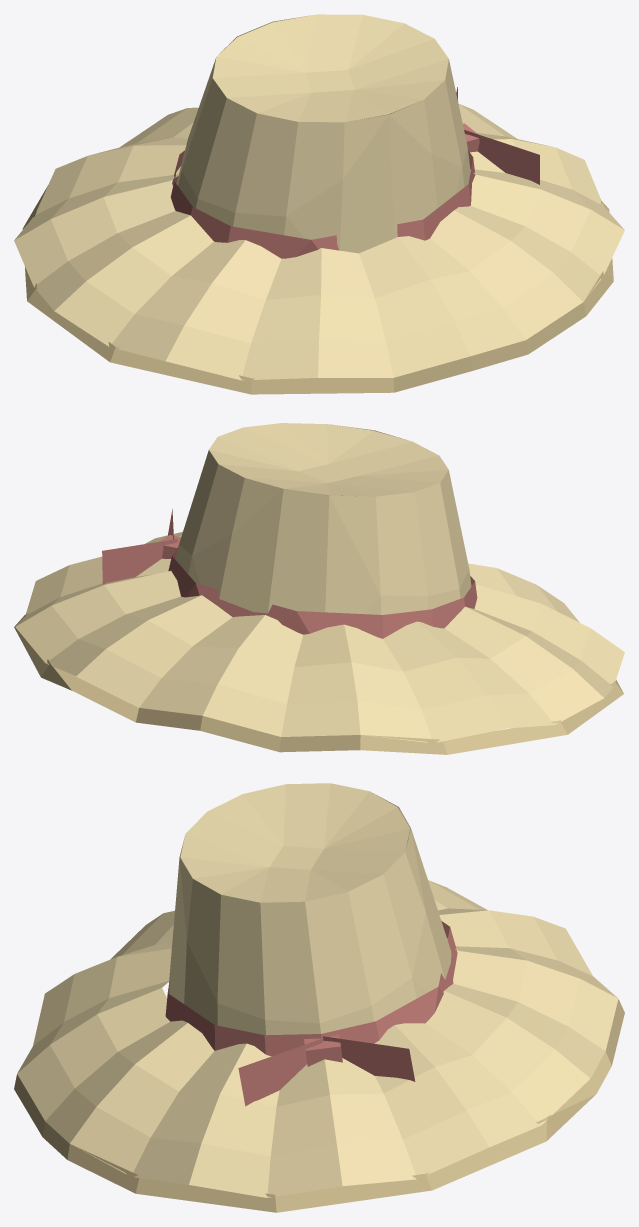
The model's file is 19-NPCs_sombrero_paja.glb.
3 views of the same model, one above another, from view 1: azimuth 30°, elevation 25°; view 2: azimuth 150°, elevation 25°; view 3: azimuth 270°, elevation 25° (orthographic). The views are drawn at different scales.
Parts seen in each view (by area): view 1: SM_NPC_M_paja, SM_NPC_M_paja_osc, SM_NPC_M_cinta; view 2: SM_NPC_M_paja, SM_NPC_M_paja_osc, SM_NPC_M_cinta; view 3: SM_NPC_M_paja, SM_NPC_M_paja_osc, SM_NPC_M_cinta.
Part boxes in pixels (<box>): SM_NPC_M_paja: <box>14,14,624,380</box>; SM_NPC_M_paja_osc: <box>22,185,613,394</box>; SM_NPC_M_cinta: <box>170,87,539,258</box>; SM_NPC_M_paja: <box>15,423,624,742</box>; SM_NPC_M_paja_osc: <box>14,613,623,754</box>; SM_NPC_M_cinta: <box>102,509,477,638</box>; SM_NPC_M_paja: <box>17,783,618,1197</box>; SM_NPC_M_paja_osc: <box>14,999,624,1212</box>; SM_NPC_M_cinta: <box>165,921,457,1106</box>.
Size of the model in its own units: 0.6012 by 0.2427 by 0.5171.
